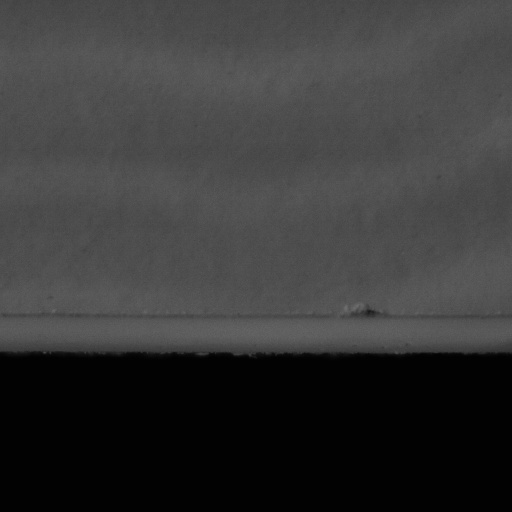bengque: (340, 303, 390, 321)
